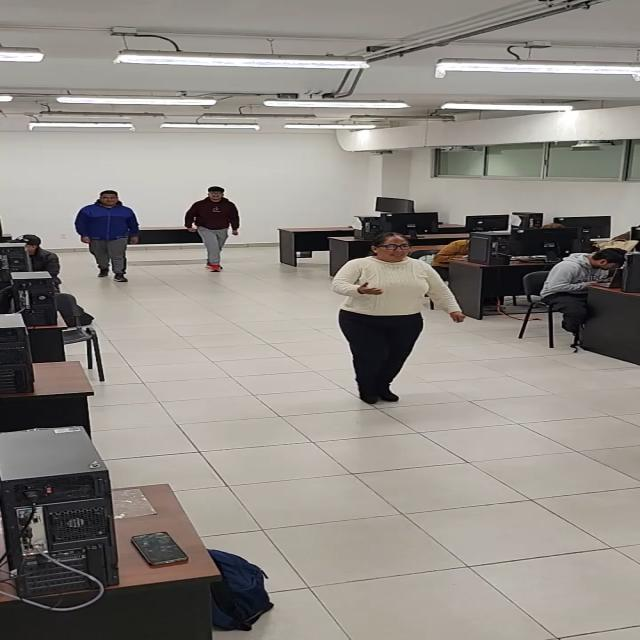Persona: (336, 232, 452, 409), (73, 190, 141, 283), (185, 185, 239, 274)
